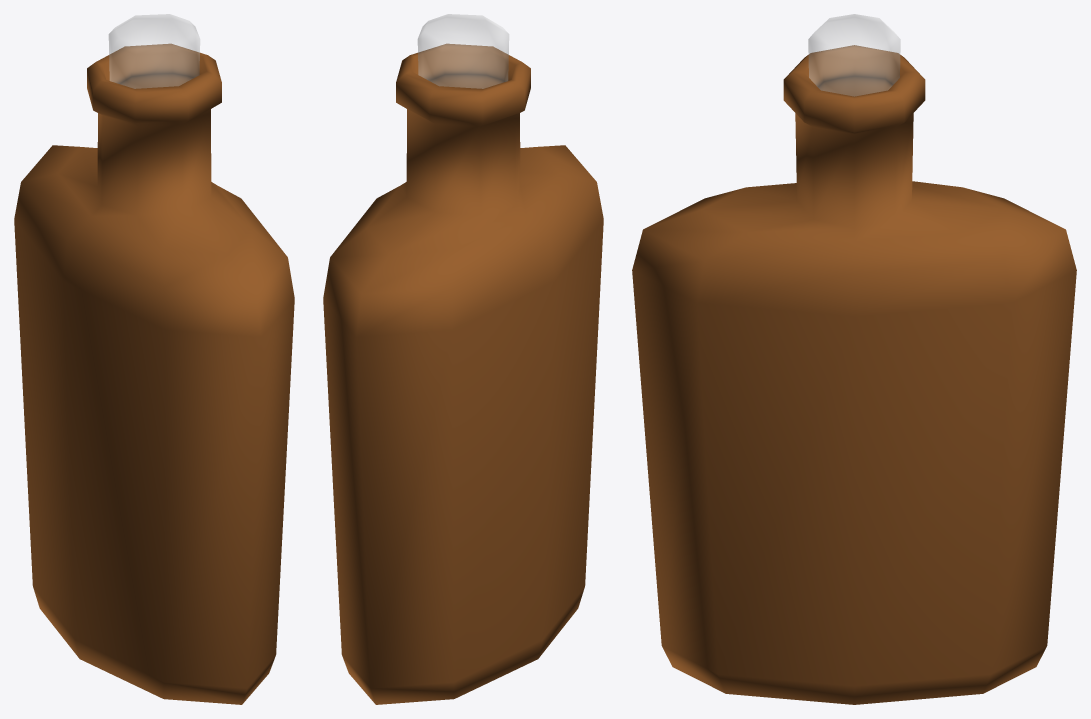
The model's file is Abi_Pot2.fbx.
The picture shows the model from 3 angles, left to right: view 1: azimuth 30°, elevation 25°; view 2: azimuth 150°, elevation 25°; view 3: azimuth 270°, elevation 25°; orthographic projection. The views are drawn at different scales.
Parts seen in each view (by area): view 1: Potion_3; view 2: Potion_3; view 3: Potion_3.
Part boxes in pixels (box(x1,y1,x2,y2)): Potion_3: box(14, 14, 294, 704); Potion_3: box(323, 14, 603, 704); Potion_3: box(632, 14, 1076, 704).
Bounding box in the file's own units: 65.47 × 209 × 133.
